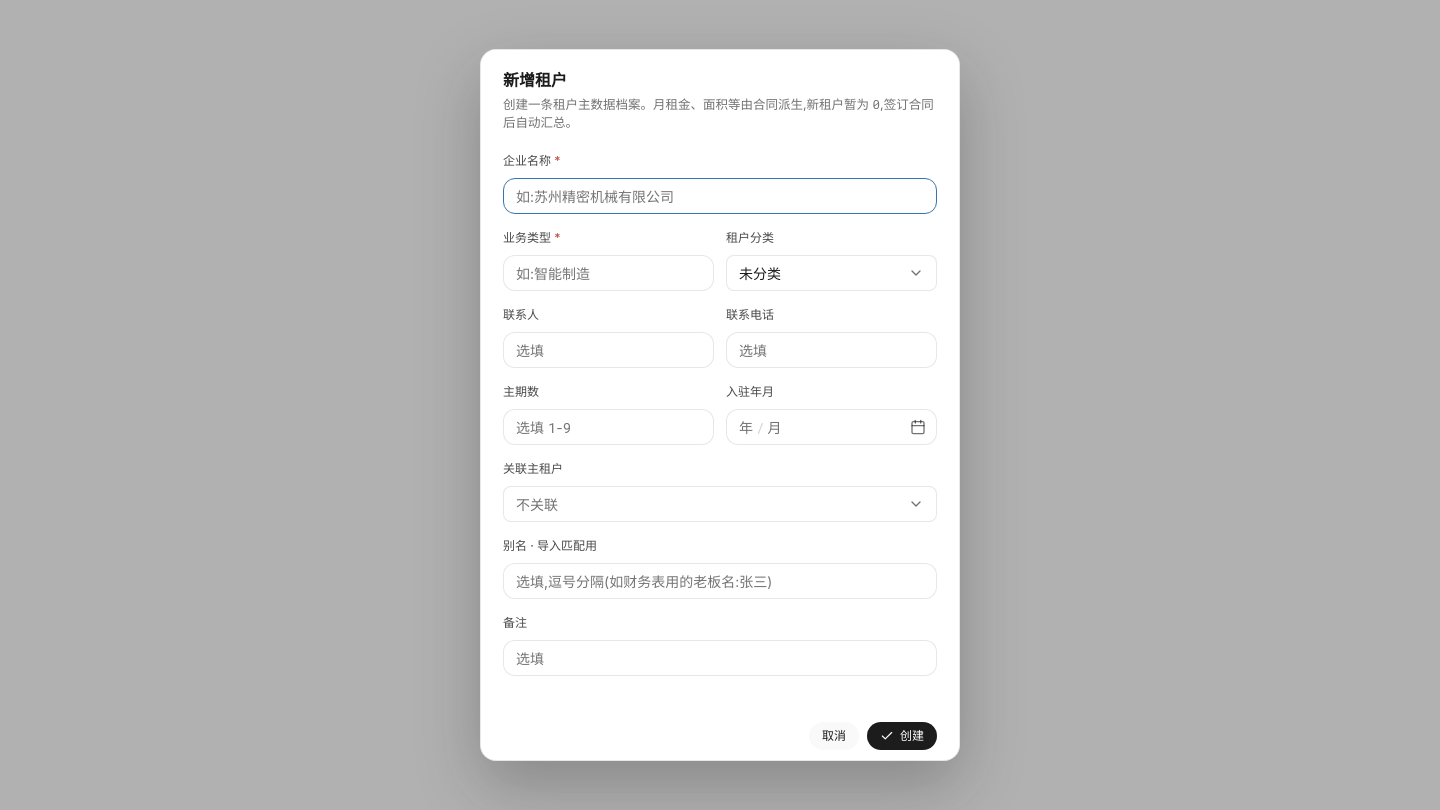
Scenario: 新增 / 编辑租户弹窗 › ❗企业名称空着提交 → 红字在 .fp-field-err,不发请求
The image size is (1440, 810).
Click the button "创建": coordinates (902, 736) left=867, top=722, right=937, bottom=750
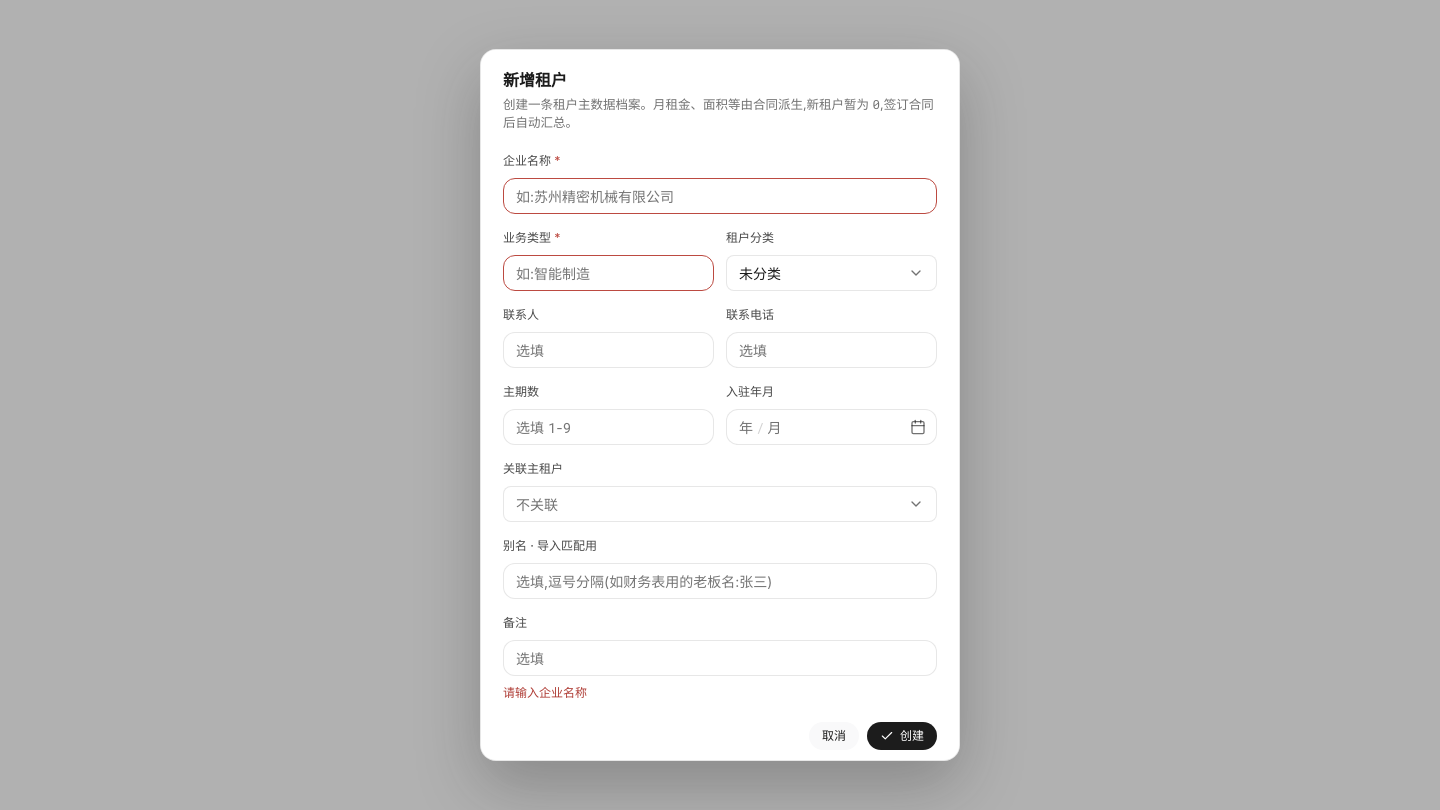
Now the text with class "fp-field-err" reads "请输入企业名称", box left=503, top=685, right=587, bottom=700
